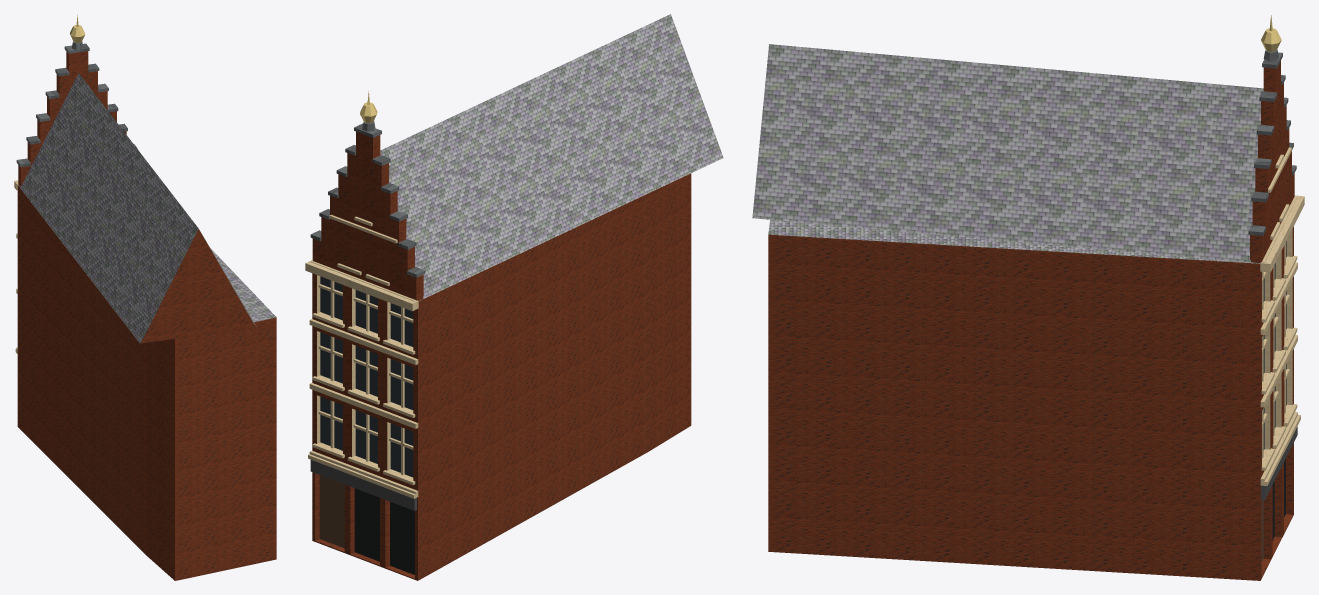
3 renders of one model, left to right at view 1: azimuth 30°, elevation 25°; view 2: azimuth 150°, elevation 25°; view 3: azimuth 270°, elevation 25°, orthographic. The views are drawn at different scales.
Visible parts, largest first — view 1: bldg_496944521_landmark; view 2: bldg_496944521_landmark; view 3: bldg_496944521_landmark.
Part boxes in pixels (bbox=[...]): bldg_496944521_landmark: bbox=[14, 14, 276, 580]; bldg_496944521_landmark: bbox=[305, 14, 723, 580]; bldg_496944521_landmark: bbox=[752, 15, 1304, 580].
Bounding box in the file's own units: 10.75 × 23.53 × 22.09.
Materials: 9 (4 with a texture image).
